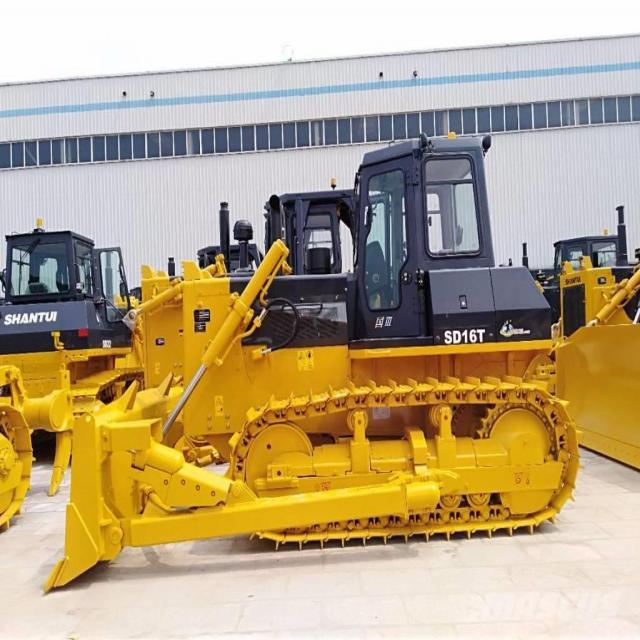Bulldozer: (35, 113, 602, 604)
